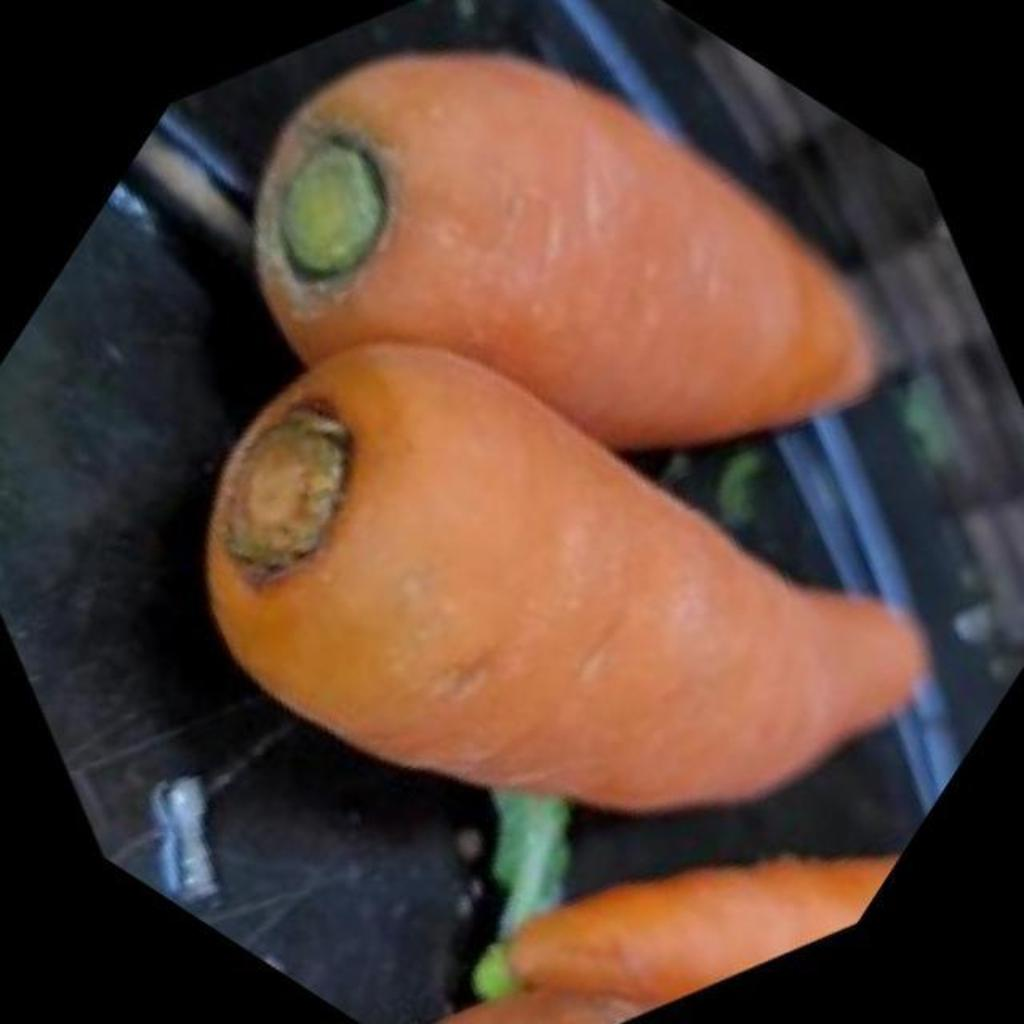carrot: (208, 346, 924, 810), (256, 54, 878, 447), (510, 858, 892, 1003)
